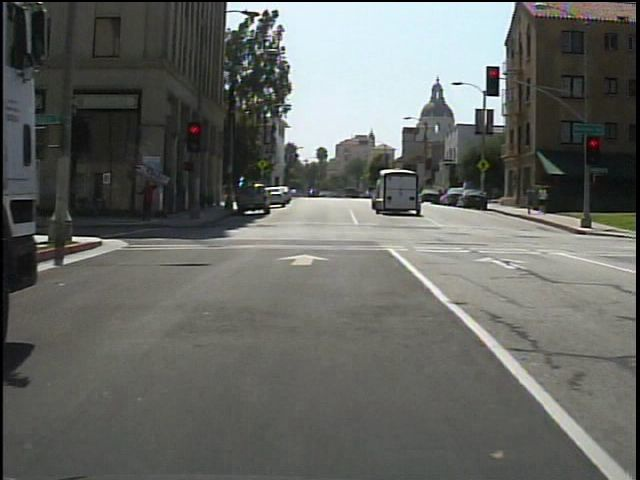person: (138, 175, 162, 223), (524, 184, 538, 218), (536, 186, 551, 217)
